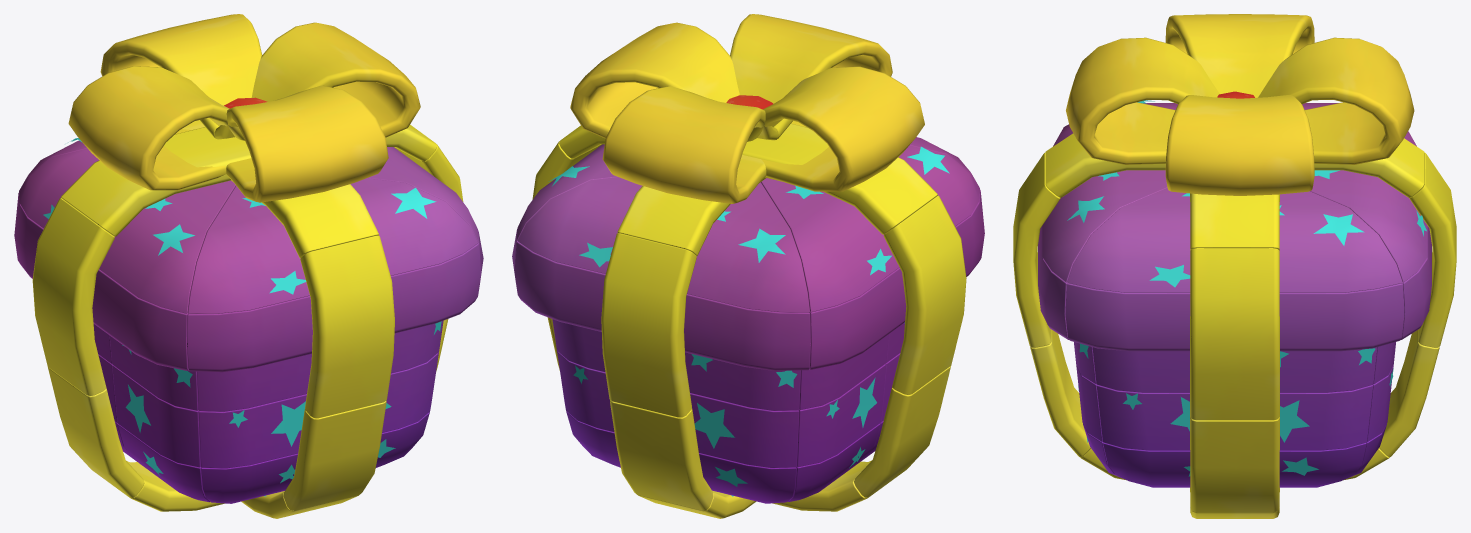
Rendered from lvl_87.fbx.
The picture shows the model from 3 angles, left to right: view 1: azimuth 30°, elevation 25°; view 2: azimuth 150°, elevation 25°; view 3: azimuth 270°, elevation 25°; orthographic projection.
Visible parts, largest first — view 1: Cube_L1_3, Cube_L2_7, Cube_L1_2, Cube_L2_6, Cube_L3_5, Cube_L1, Cube_L3_4, Cube_L1_1, Cube_L2_11, Cube_L3_13, Cube_L3_6, Cube_L2_2 (+20 smaller); view 2: Cube_L1_1, Cube_L2_5, Cube_L1_2, Cube_L2_6, Cube_L3_2, Cube_L1, Cube_L3_3, Cube_L1_3, Cube_L2_9, Cube_L3_10, Cube_L3_1, Cube_L2_2 (+20 smaller); view 3: Cube_L2_4, Cube_L1, Cube_L1_1, Cube_L1_3, Cube_L3_7, Cube_L3, Cube_L2_8, Cube_L1_2, Cube_L3_8, Cube_L3_15, Cube_L3_6, Cube_L3_1 (+20 smaller).
Boxes of the visible parts, <box> form: Cube_L1_3: <box>214,85,388,202</box>; Cube_L2_7: <box>300,235,394,418</box>; Cube_L1_2: <box>68,66,244,190</box>; Cube_L2_6: <box>32,198,114,396</box>; Cube_L3_5: <box>187,186,309,314</box>; Cube_L1: <box>251,22,420,137</box>; Cube_L3_4: <box>99,180,235,313</box>; Cube_L1_1: <box>100,14,261,137</box>; Cube_L2_11: <box>283,401,386,510</box>; Cube_L3_13: <box>187,296,312,372</box>; Cube_L3_6: <box>350,178,477,275</box>; Cube_L2_2: <box>61,127,251,236</box>; Cube_L1_1: <box>602,86,777,203</box>; Cube_L2_5: <box>601,233,696,417</box>; Cube_L1_2: <box>747,66,924,191</box>; Cube_L2_6: <box>883,195,966,395</box>; Cube_L3_2: <box>687,182,810,312</box>; Cube_L1: <box>570,22,739,138</box>; Cube_L3_3: <box>761,178,899,312</box>; Cube_L1_3: <box>730,14,892,138</box>; Cube_L2_9: <box>610,400,713,510</box>; Cube_L3_10: <box>684,294,810,370</box>; Cube_L3_1: <box>517,177,642,273</box>; Cube_L2_2: <box>742,123,937,234</box>; Cube_L2_4: <box>1190,248,1279,420</box>; Cube_L1: <box>1165,95,1314,195</box>; Cube_L1_1: <box>1258,37,1414,164</box>; Cube_L1_3: <box>1066,37,1219,164</box>; Cube_L3_7: <box>1067,188,1190,292</box>; Cube_L3: <box>1279,191,1402,292</box>; Cube_L2_8: <box>1190,417,1279,512</box>; Cube_L1_2: <box>1165,14,1314,97</box>; Cube_L3_8: <box>1279,283,1404,351</box>; Cube_L3_15: <box>1065,283,1190,351</box>; Cube_L3_6: <box>1042,170,1167,282</box>; Cube_L3_1: <box>1310,170,1427,282</box>.
Bounding box in the file's own units: 17.31 × 17.23 × 16.88.
